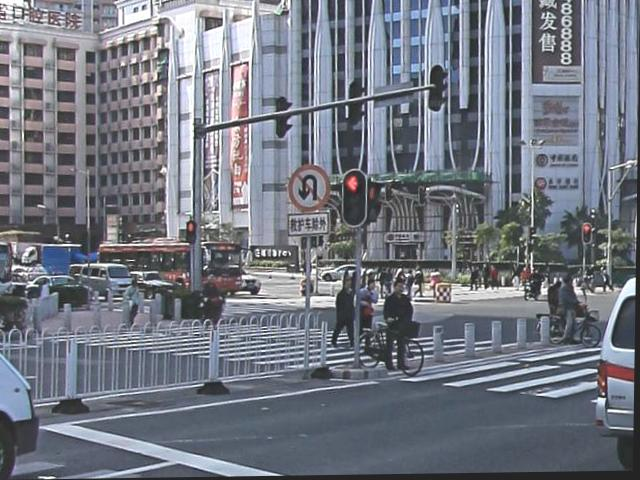not_u_turn_left: (287, 164, 335, 213)
